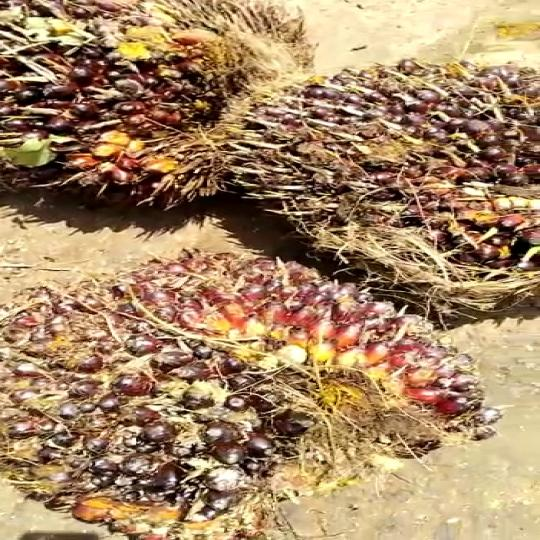kurang masak: (0, 230, 494, 540), (205, 50, 540, 326), (0, 0, 310, 236)
